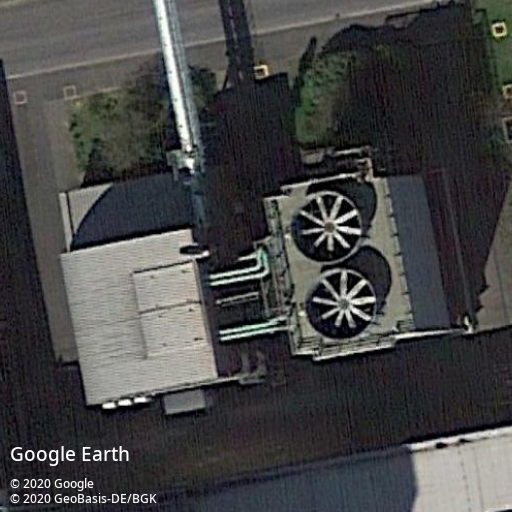Vent: (290, 192, 362, 264), (305, 268, 376, 341)
